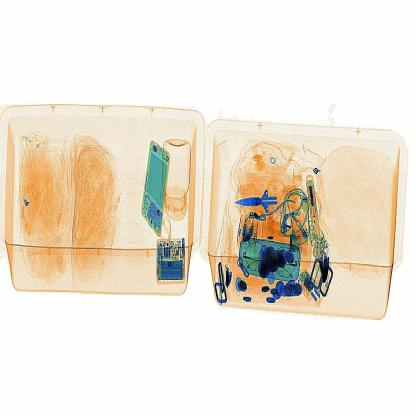gun: (230, 161, 295, 232)
